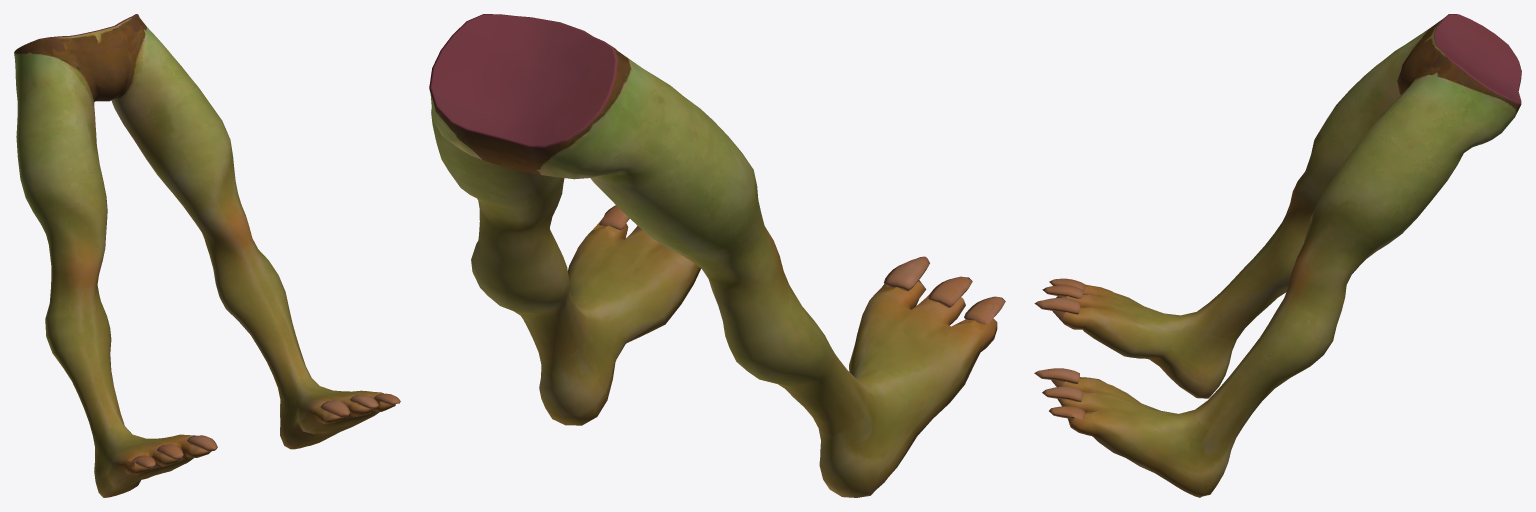
The picture shows the model from 3 angles, left to right: view 1: azimuth 30°, elevation 25°; view 2: azimuth 150°, elevation 25°; view 3: azimuth 270°, elevation 25°; orthographic projection. The views are drawn at different scales.
Parts seen in each view (by area): view 1: SM_Goblin_Legs_LOD0; view 2: SM_Goblin_Legs_LOD0; view 3: SM_Goblin_Legs_LOD0.
Part boxes in pixels (<box>): SM_Goblin_Legs_LOD0: <box>14,14,400,497</box>; SM_Goblin_Legs_LOD0: <box>429,14,1005,497</box>; SM_Goblin_Legs_LOD0: <box>1034,14,1521,497</box>.
Bounding box in the file's own units: 0.693 × 0.9199 × 0.9968.
Materials: 1 (1 with a texture image).
